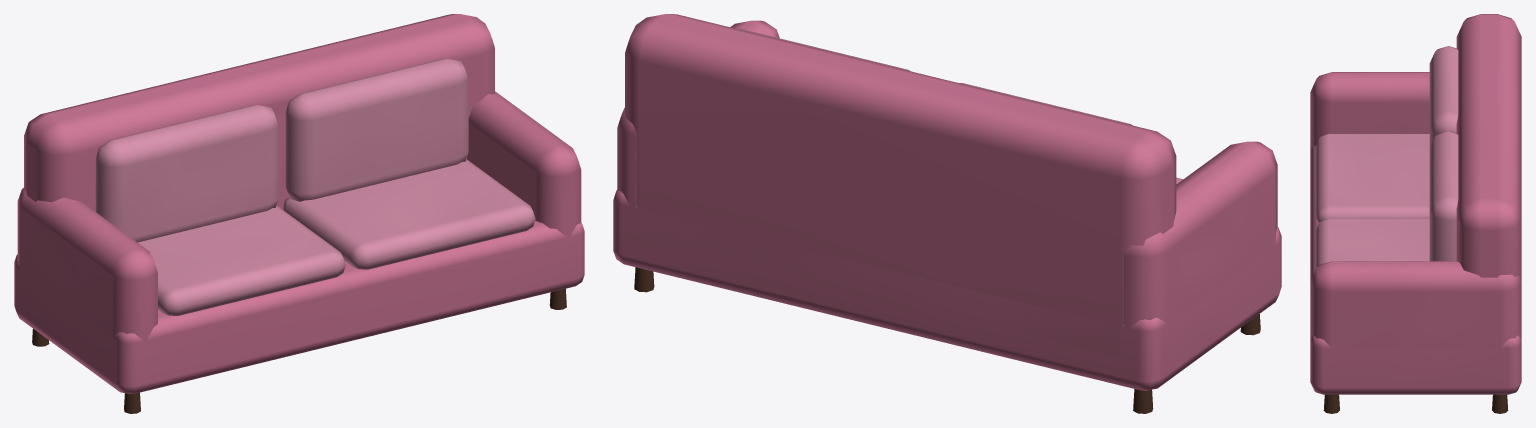
Rendered from furn_sofa_pink.glb.
The picture shows the model from 3 angles, left to right: view 1: azimuth 30°, elevation 25°; view 2: azimuth 150°, elevation 25°; view 3: azimuth 270°, elevation 25°; orthographic projection. The views are drawn at different scales.
Visible parts, largest first — view 1: furn_sofa_pink_main; view 2: furn_sofa_pink_main; view 3: furn_sofa_pink_main.
Boxes of the visible parts, bbox=[...] form: furn_sofa_pink_main: bbox=[14, 14, 584, 413]; furn_sofa_pink_main: bbox=[613, 14, 1281, 413]; furn_sofa_pink_main: bbox=[1310, 14, 1521, 413].
Bounding box in the file's own units: 1.82 × 0.85 × 0.78.
